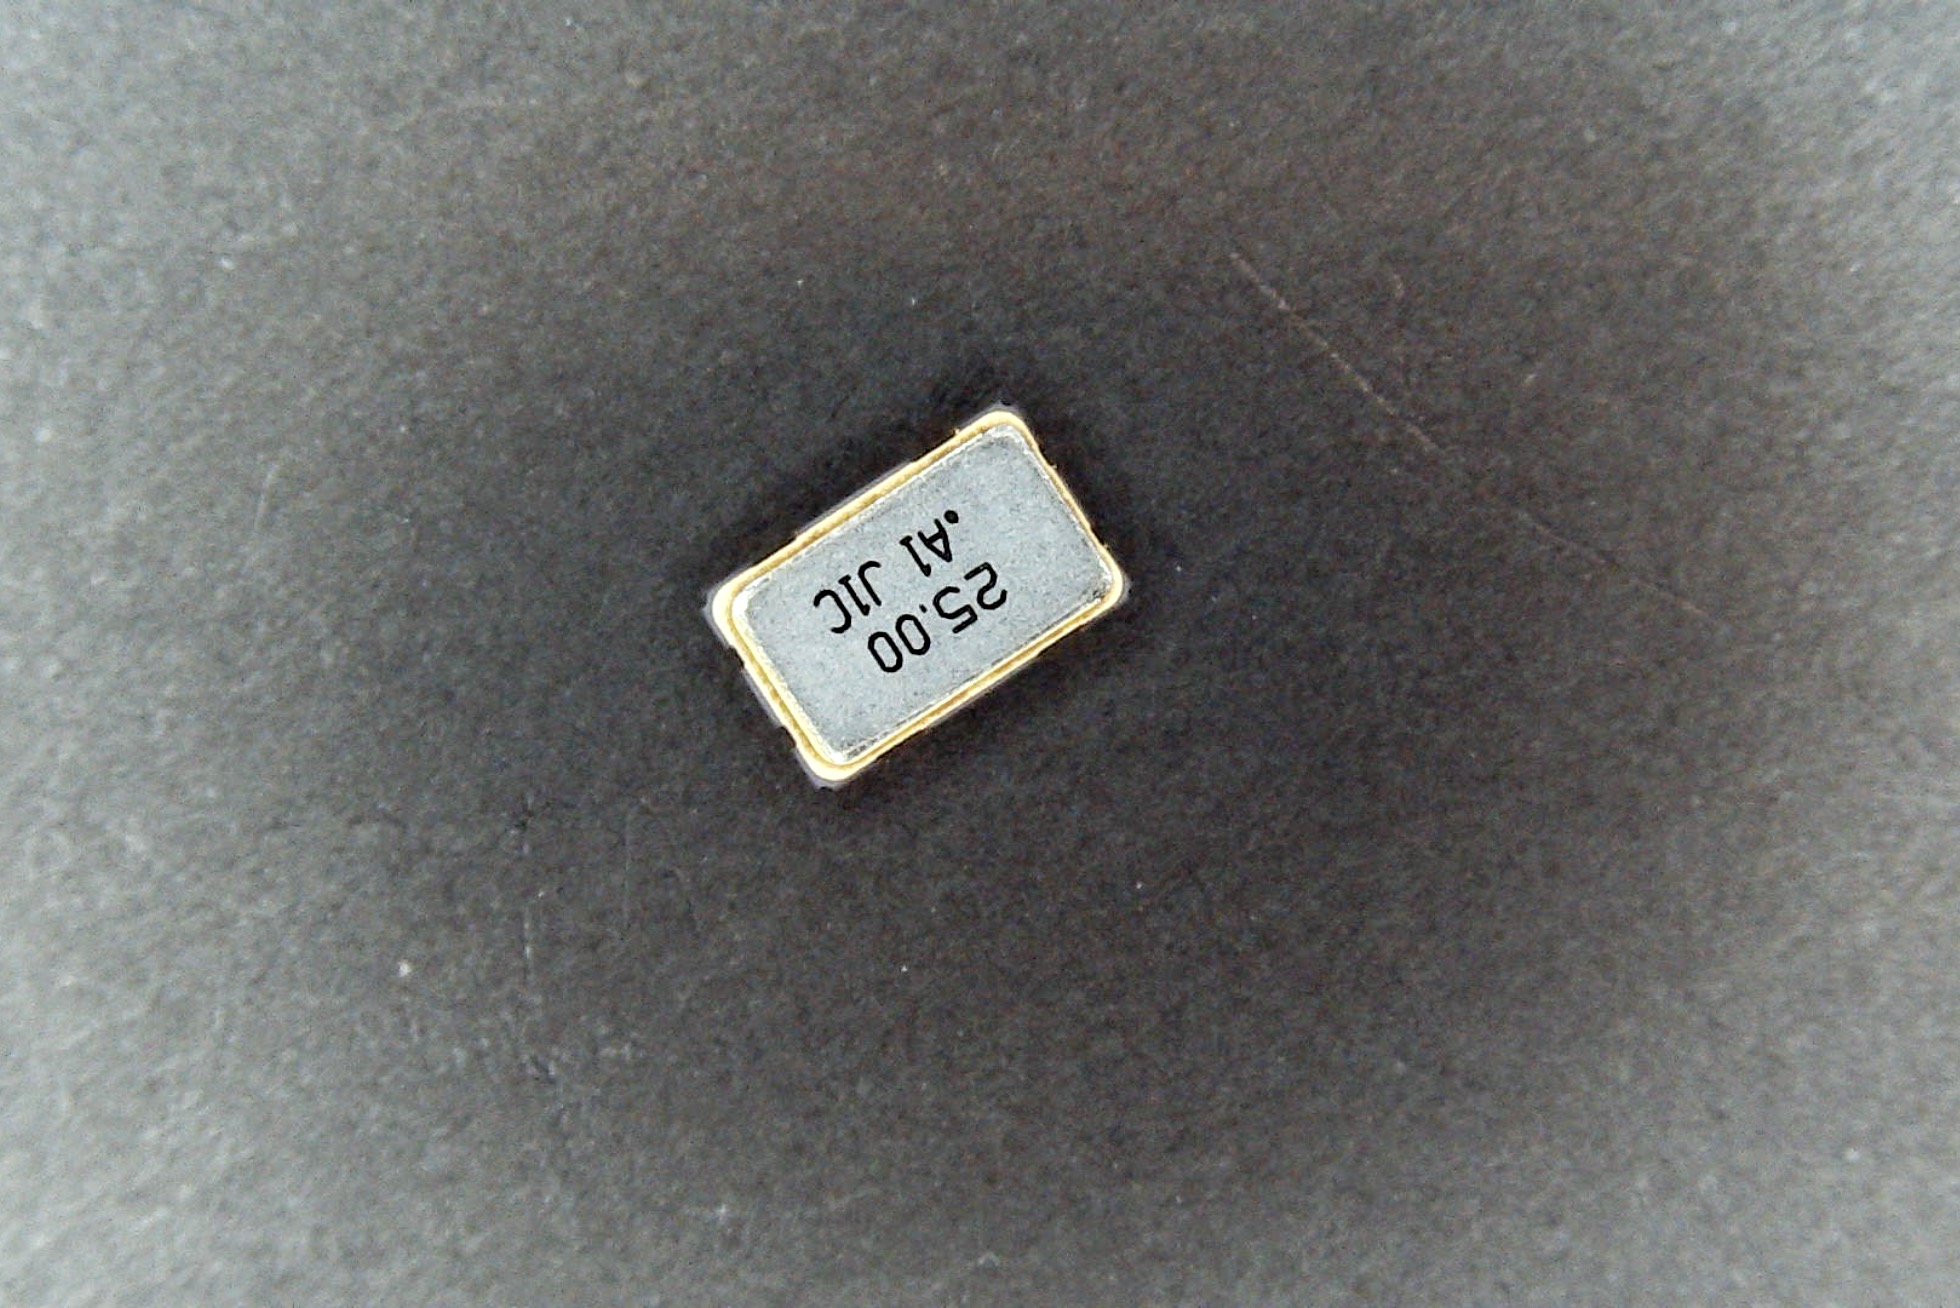bbox: (702, 399, 1131, 799)
